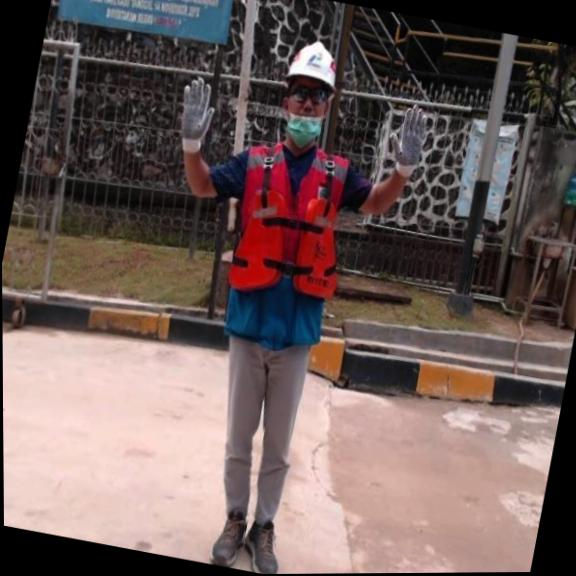safety_vest: (224, 183, 352, 308)
